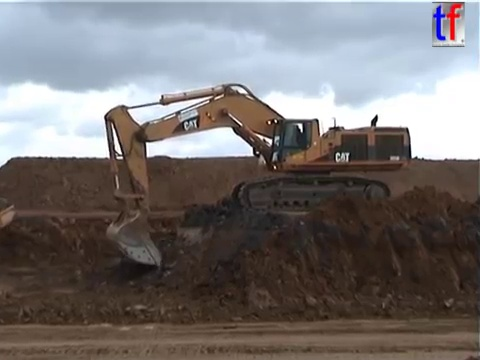excavator: (100, 80, 415, 270)
truck: (1, 195, 17, 231)
